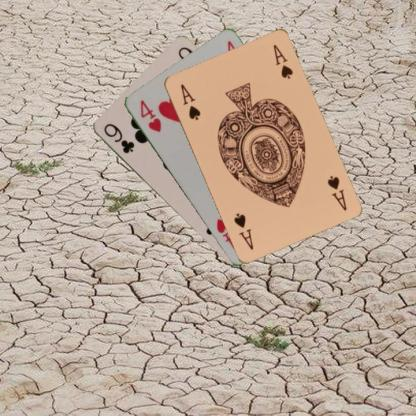4h: (137, 96, 162, 134)
9c: (101, 121, 135, 155)
As: (177, 81, 202, 122), (324, 173, 348, 212)
